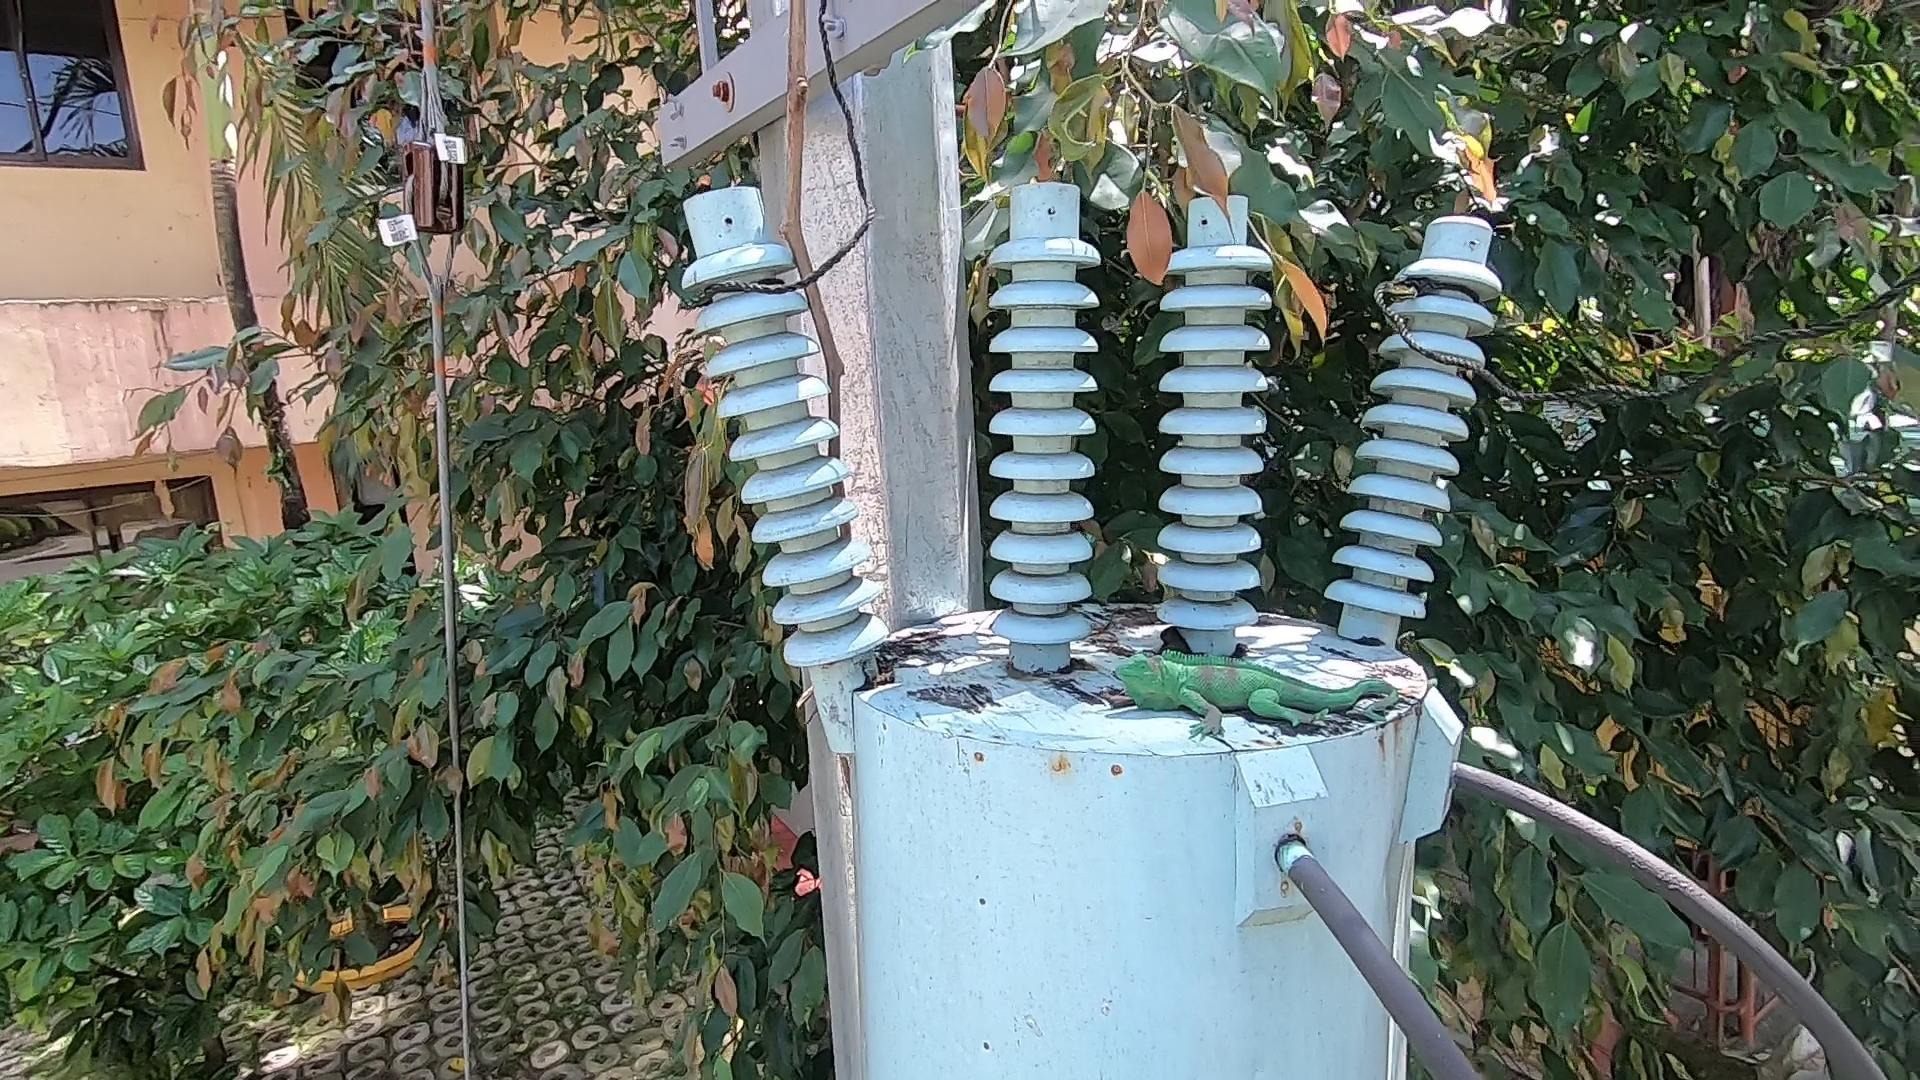branch with leaves: (1129, 142, 1360, 375)
leaf: (856, 650, 919, 702), (1153, 621, 1192, 665)
tree branch: (719, 5, 885, 804)
